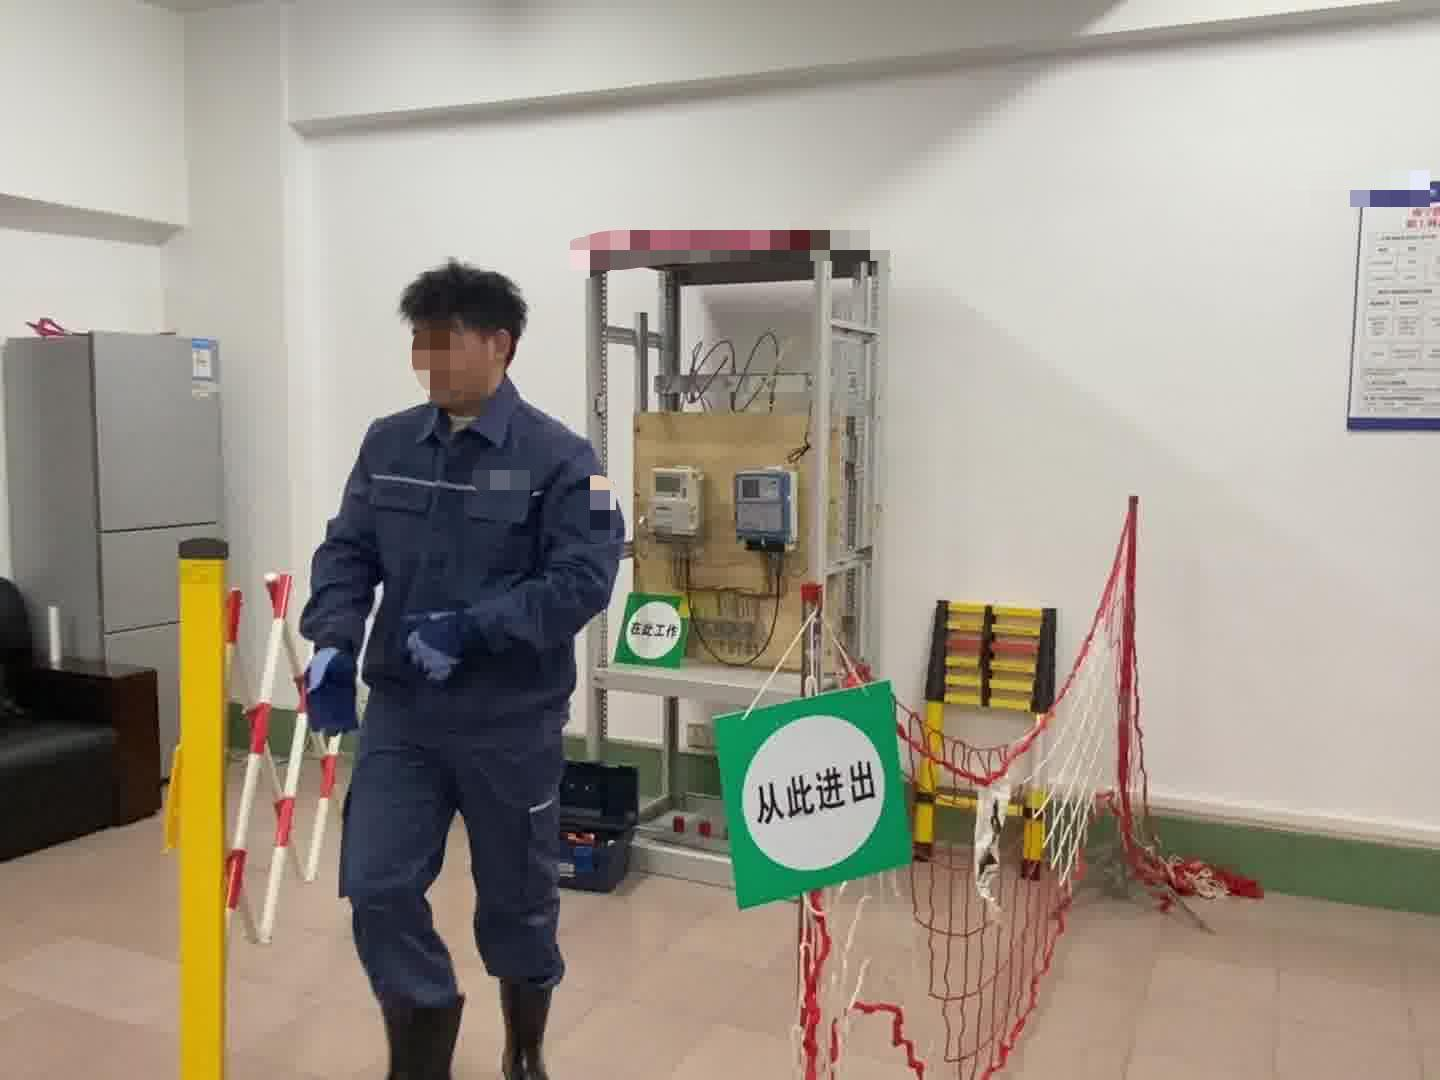noear: (471, 322, 520, 393)
unhalt: (399, 272, 534, 414)
